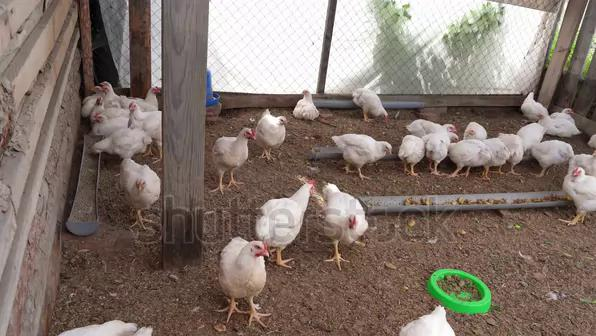Pollos: (259, 176, 314, 241), (219, 235, 270, 299), (320, 185, 368, 244), (327, 131, 390, 164), (213, 124, 255, 173), (121, 160, 157, 208), (565, 165, 596, 216), (91, 83, 128, 125), (255, 108, 290, 148), (95, 129, 151, 153), (351, 88, 389, 118), (451, 139, 490, 168), (531, 139, 573, 165), (426, 132, 454, 169), (129, 101, 163, 131), (546, 107, 582, 134), (518, 91, 548, 122), (401, 135, 425, 173), (293, 88, 318, 122), (402, 116, 455, 131), (500, 131, 522, 163), (464, 121, 486, 139)
